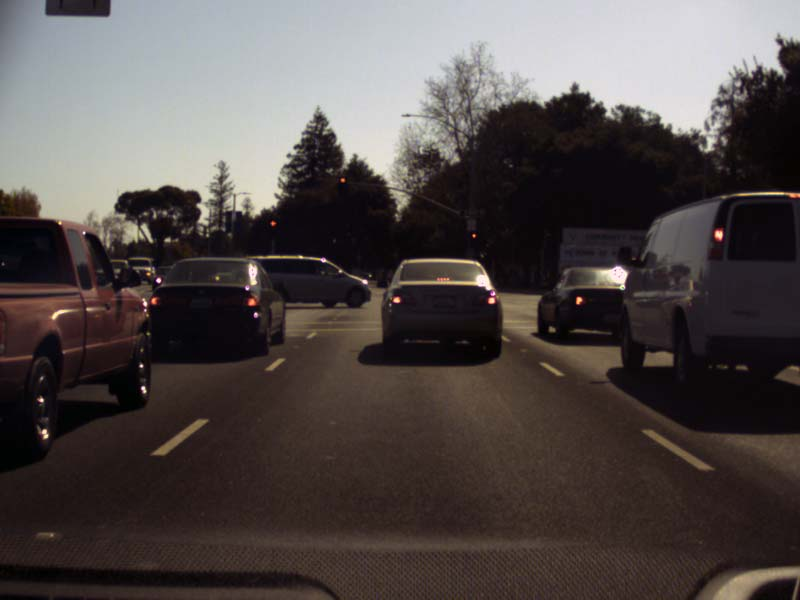Red: (338, 175, 348, 198), (268, 217, 277, 237), (469, 231, 477, 247)
